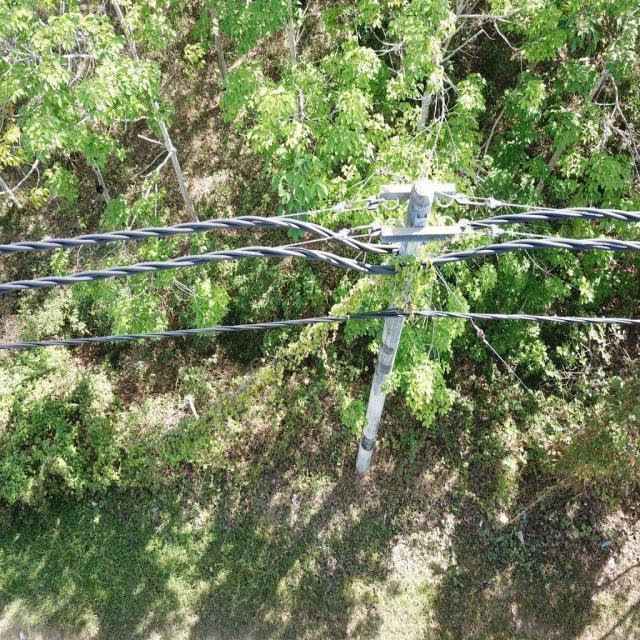critical vegetation: (141, 242, 427, 458)
